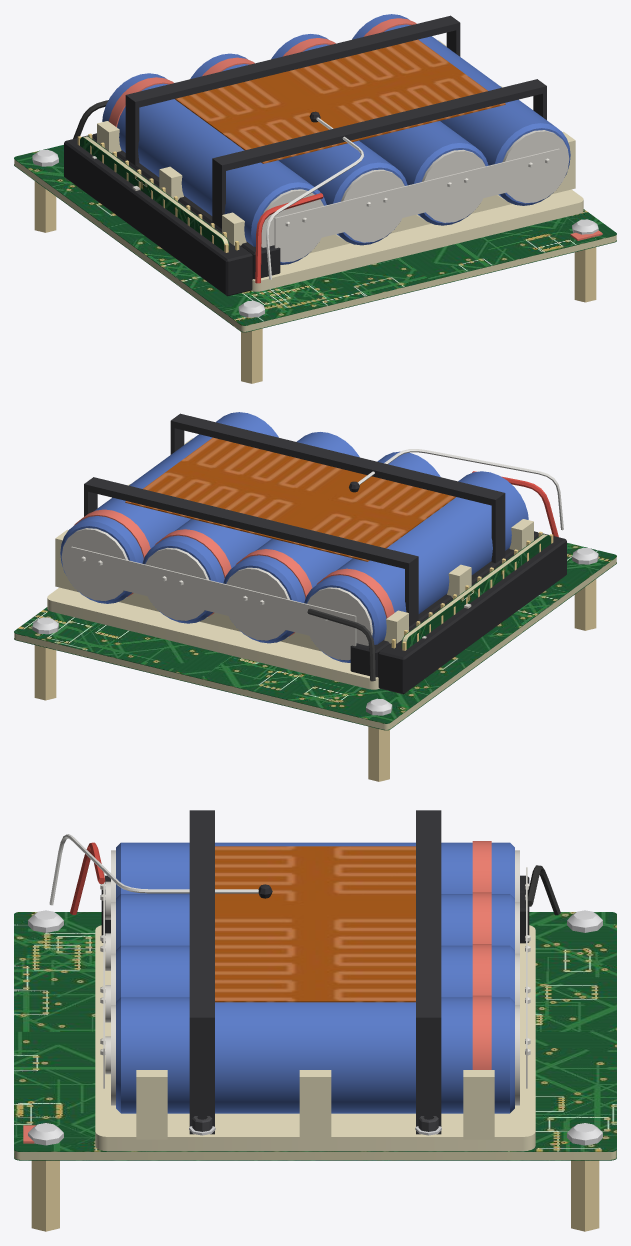
Rendered from battery_pack.glb.
3 views of the same model, one above another, from view 1: azimuth 30°, elevation 25°; view 2: azimuth 150°, elevation 25°; view 3: azimuth 270°, elevation 25° (orthographic). The views are drawn at different scales.
Visible parts, largest first — view 1: battery_pack, cells, protection_board; view 2: battery_pack, cells, protection_board; view 3: battery_pack, cells.
Boxes of the visible parts, left/top/right/bottom form: battery_pack: left=14, top=15, right=616, bottom=383; cells: left=102, top=14, right=570, bottom=264; protection_board: left=80, top=136, right=229, bottom=251; battery_pack: left=14, top=413, right=616, bottom=781; cells: left=60, top=412, right=528, bottom=662; protection_board: left=401, top=534, right=550, bottom=649; battery_pack: left=14, top=810, right=616, bottom=1231; cells: left=105, top=841, right=519, bottom=1113.
Size of the model in its own units: 0.0917 by 0.0388 by 0.0959.
19 materials, 2 textured.
